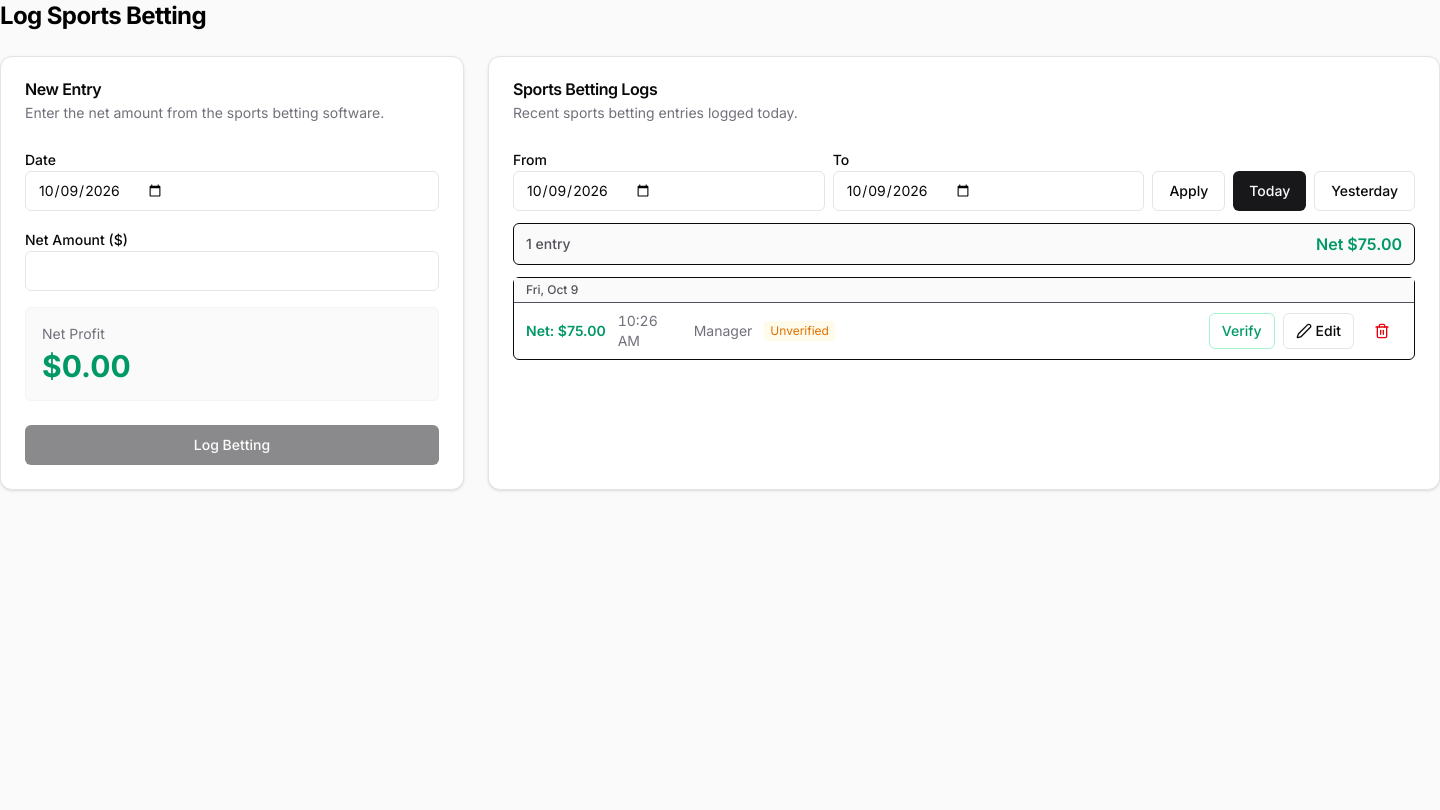
Scenario: SportsBetting Page › cancels delete dialog and keeps the log
expect the text "Net: $75.00" is shown: met, box [526,321,606,341]
What coordinates should you click on to do the following:
click the button named "Delete sports betting log"
I would click on:
 (1382, 331)
Its box is [1362,313,1402,349].
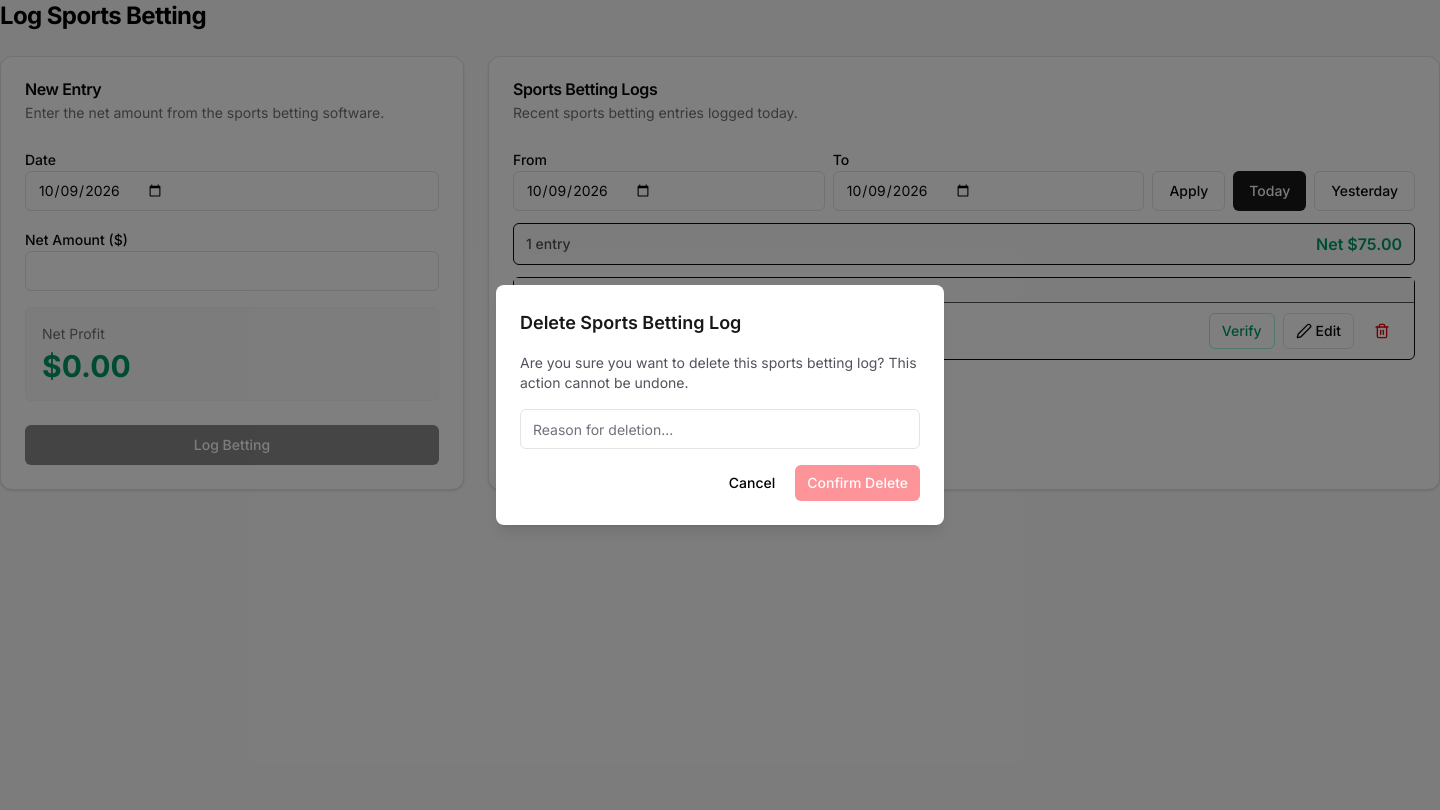
expect the heading "Delete Sports Betting Log" is shown: met, box [520,312,741,333]
What coordinates should you click on to do the following:
click the button "Cancel"
I would click on:
 (752, 483)
Its box is [717,465,787,501].
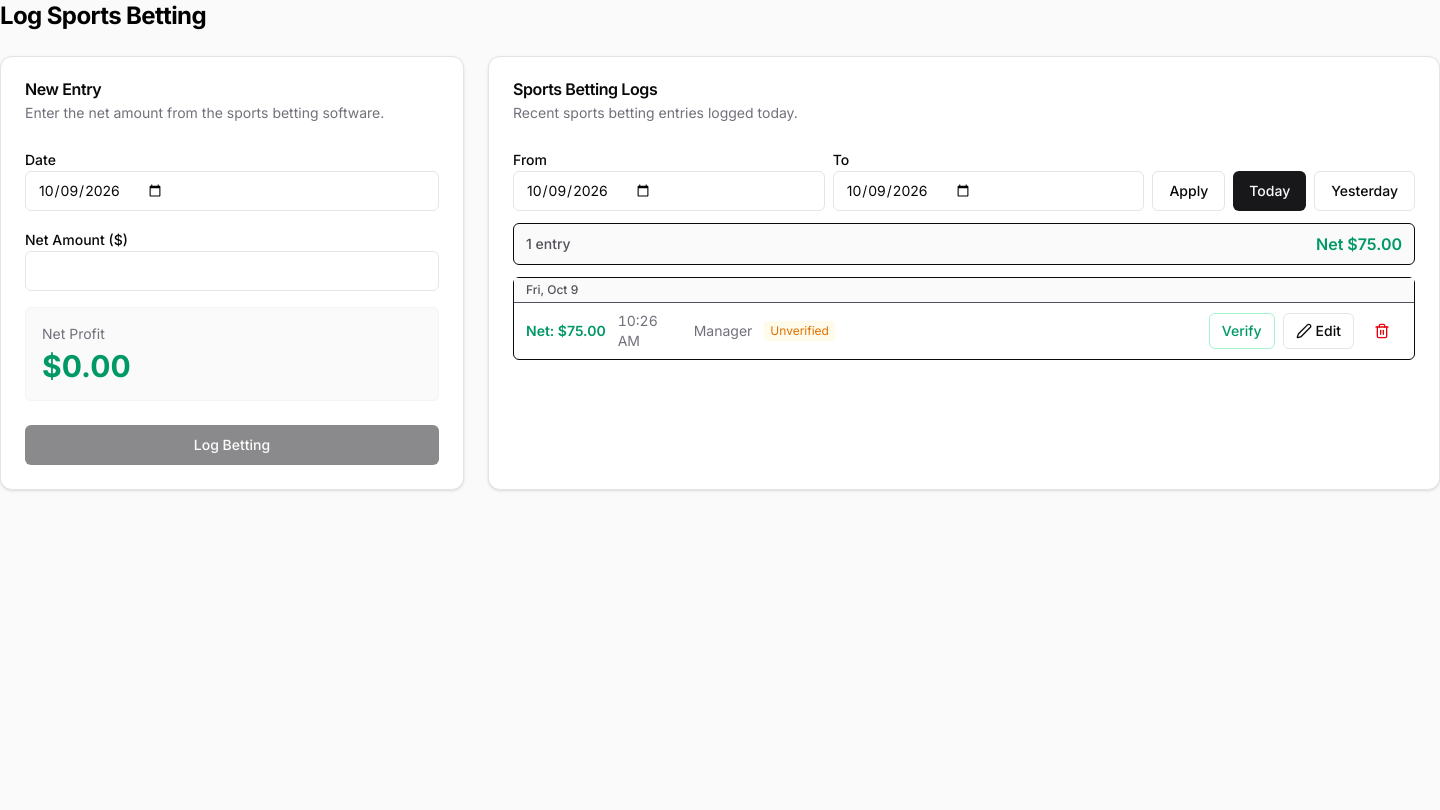
expect the text "Net: $75.00" is shown: met, box [526,321,606,341]
expect the heading "Delete Sports Betting Log" is gone: met
